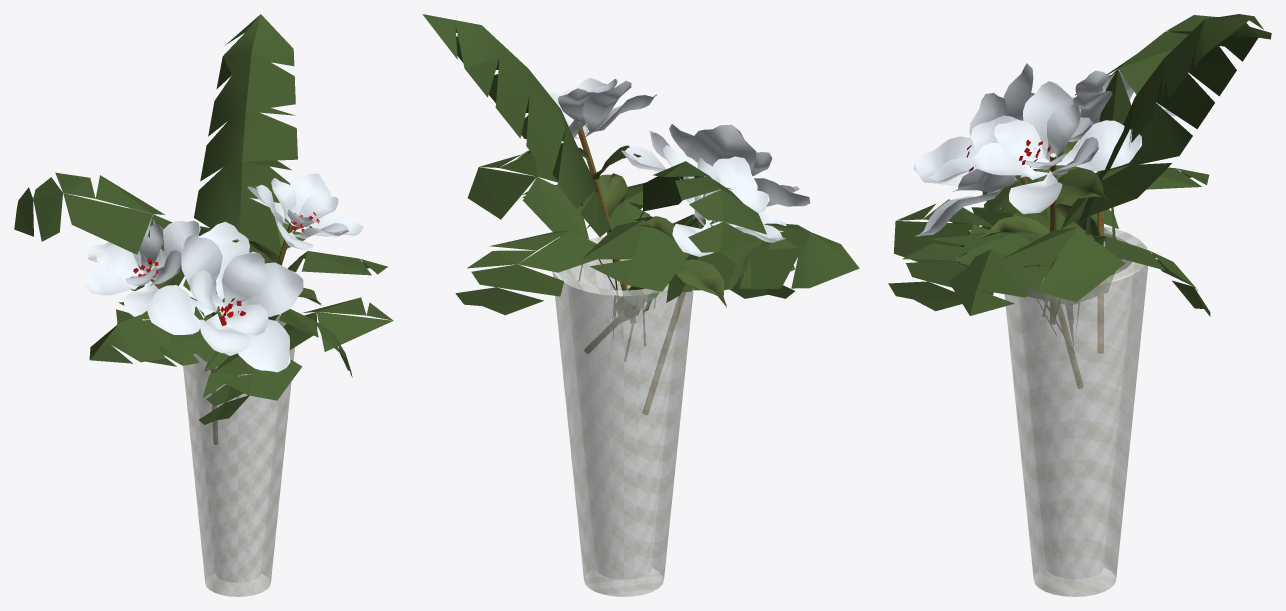
File: Flower Vase.dae
The picture shows the model from 3 angles, left to right: view 1: azimuth 30°, elevation 25°; view 2: azimuth 150°, elevation 25°; view 3: azimuth 270°, elevation 25°; orthographic projection. The views are drawn at different scales.
Visible parts, largest first — view 1: group_26 (×2), 群组_12 (×19), group_13, group_1 (×5), group_22, group_16 (×2), group_15 (×2), group_14, group_23, group_25, group_4; view 2: group_26 (×2), group_13, 群组_12 (×9), group_12 (×5), group_22, group_1 (×4), group_14 (×3), group_11 (×3), group_10, group_23, group_25, group_4; view 3: group_26 (×2), 群组_12 (×16), group_13, group_14 (×3), group_25 (×5), group_16 (×3), group_1 (×2), group_22, group_15, group_12, group_9, group_8 (+1 smaller).
Part boxes in pixels (<box>): group_26 (×2): <box>183,314,294,596</box>; 群组_12 (×19): <box>84,173,363,372</box>; group_13: <box>194,14,297,263</box>; group_1 (×5): <box>14,172,164,254</box>; group_22: <box>89,312,214,363</box>; group_16 (×2): <box>301,297,393,351</box>; group_15 (×2): <box>211,353,302,400</box>; group_14: <box>301,251,371,275</box>; group_23: <box>146,339,214,366</box>; group_25: <box>279,309,318,337</box>; group_4: <box>199,395,249,424</box>; group_26 (×2): <box>552,236,693,596</box>; group_13: <box>422,14,621,327</box>; 群组_12 (×9): <box>558,80,810,256</box>; group_12 (×5): <box>455,230,596,315</box>; group_22: <box>613,220,859,335</box>; group_1 (×4): <box>643,176,766,264</box>; group_14 (×3): <box>467,155,588,238</box>; group_11 (×3): <box>581,220,689,291</box>; group_10: <box>680,259,726,307</box>; group_23: <box>629,256,794,308</box>; group_25: <box>609,201,649,229</box>; group_4: <box>730,275,794,298</box>; group_26 (×2): <box>1004,226,1148,596</box>; 群组_12 (×16): <box>913,63,1141,236</box>; group_13: <box>1076,14,1263,326</box>; group_14 (×3): <box>999,227,1125,302</box>; group_25 (×5): <box>888,233,1056,311</box>; group_16 (×3): <box>948,249,1025,315</box>; group_1 (×2): <box>1099,31,1188,124</box>; group_22: <box>986,167,1118,346</box>; group_15: <box>894,221,973,262</box>; group_12: <box>1105,236,1165,270</box>; group_9: <box>1058,168,1111,202</box>; group_8: <box>981,215,1049,237</box>.
Size of the model in its own units: 17.01 by 14.69 by 26.25.
